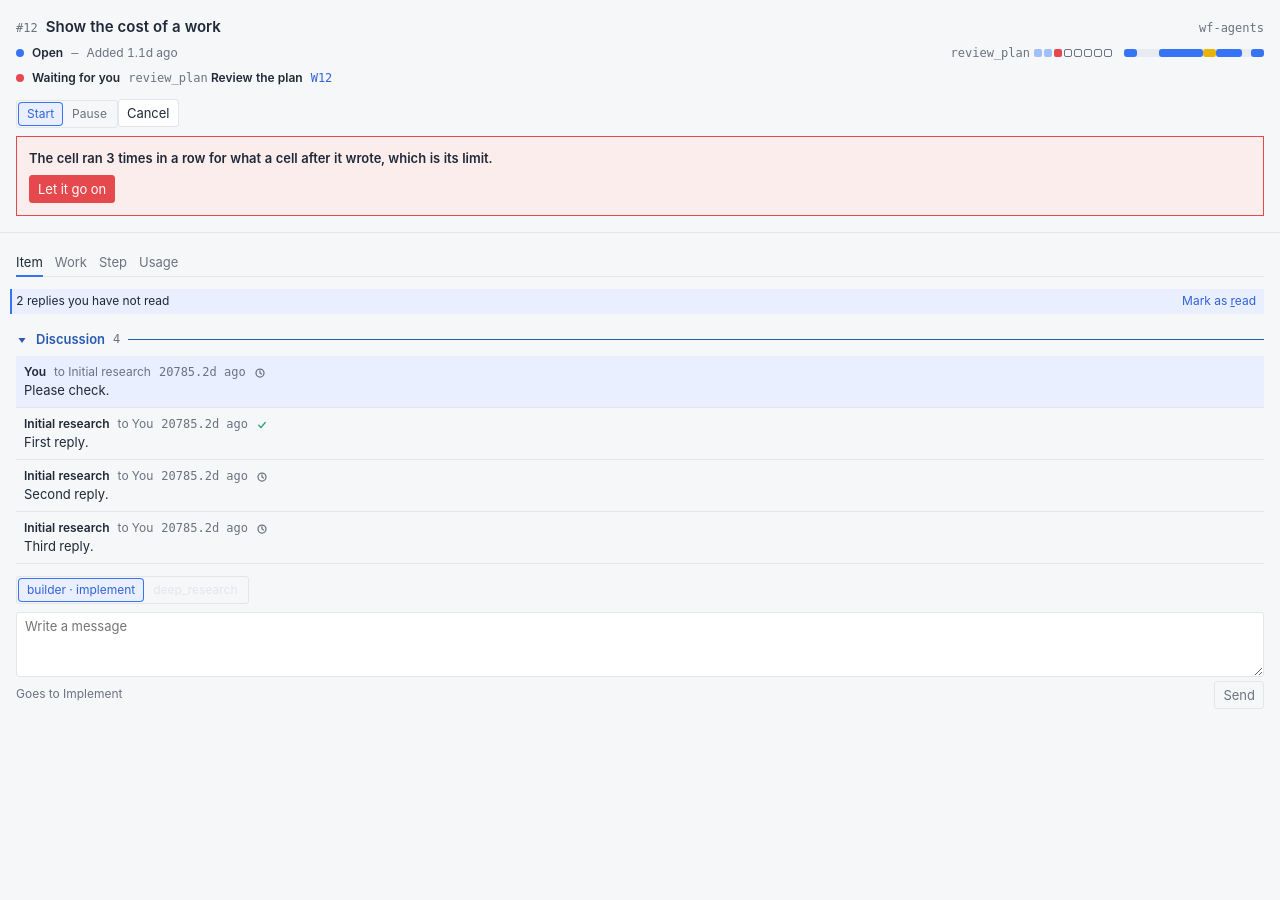
Test: what the owner has not read, in the window › tells the engine which replies were read when the owner marks the item read, and shows them read and the strip gone at once
Click the button "Mark as read": [1219, 302] box [1182,293,1256,310]
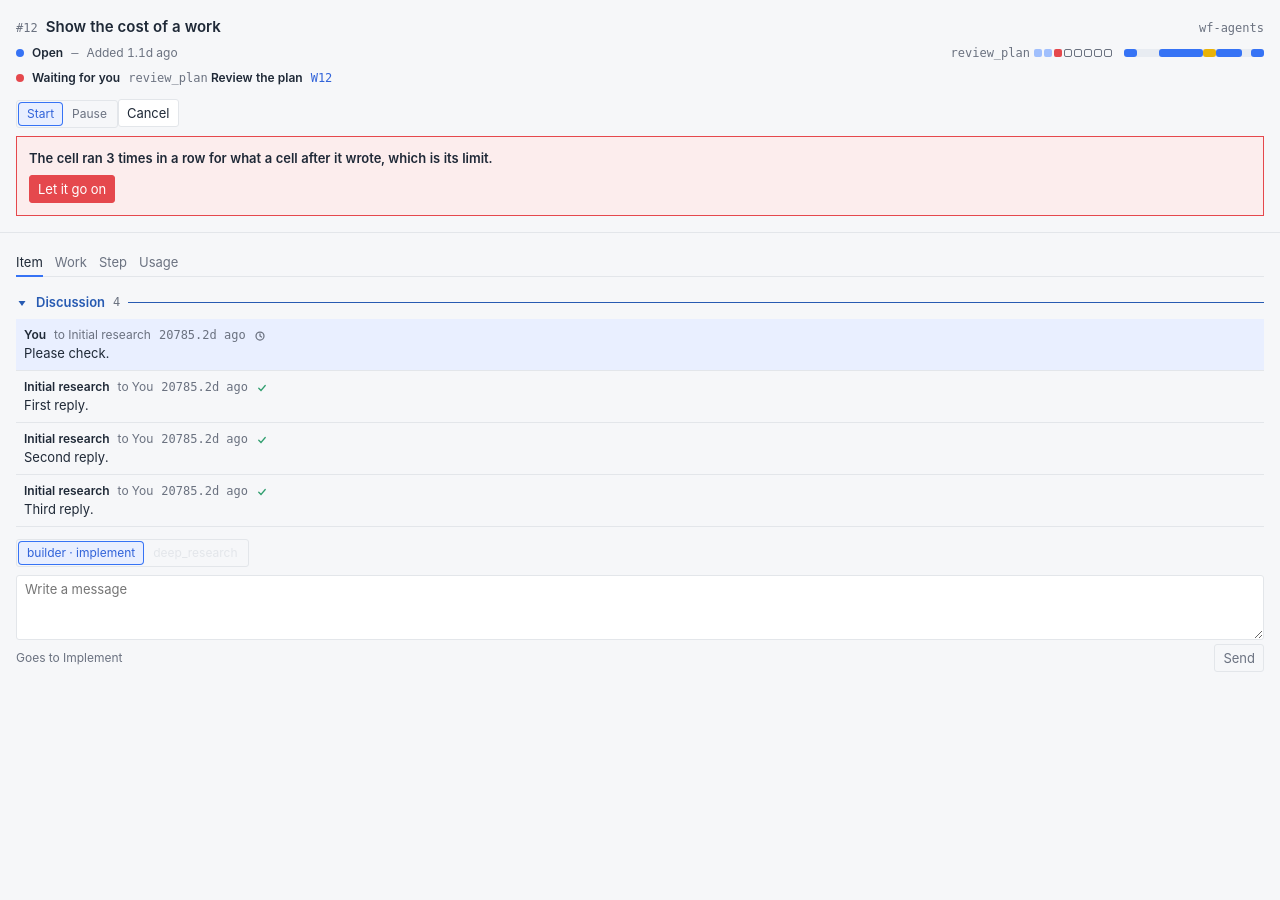
Expected: the element with class "cw-fresh" is gone
